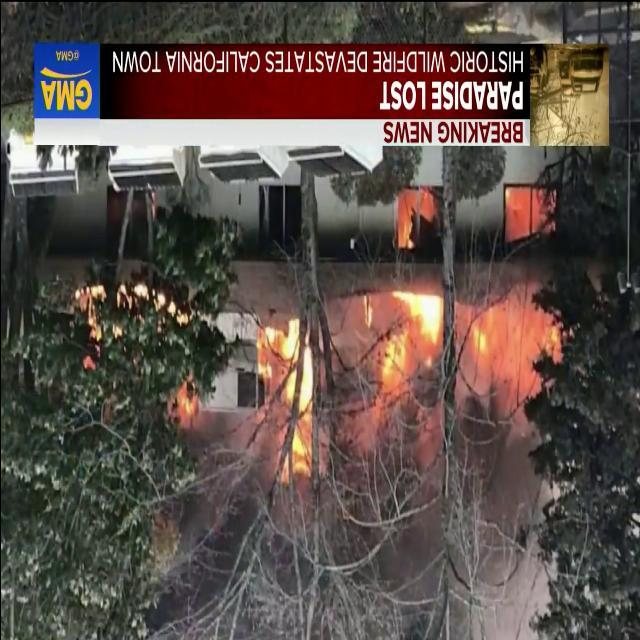Fire: (262, 316, 312, 482), (466, 302, 548, 396), (366, 332, 410, 440), (395, 288, 447, 353), (498, 178, 550, 235), (396, 184, 436, 247), (168, 388, 198, 430)
